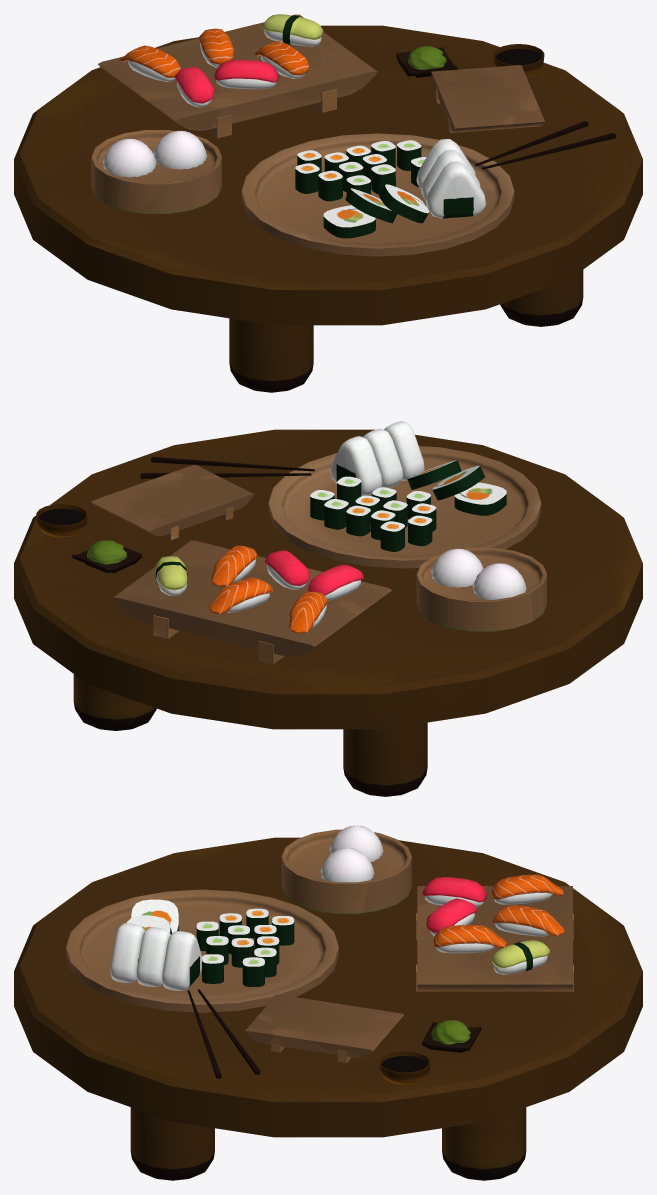
Rendered from foodTable.glb.
The picture shows the model from 3 angles, top to bottom: view 1: azimuth 30°, elevation 25°; view 2: azimuth 150°, elevation 25°; view 3: azimuth 270°, elevation 25°; orthographic projection.
Visible parts, largest first — view 1: Cylinder006; view 2: Cylinder006; view 3: Cylinder006.
Part boxes in pixels (box(x1,y1,x2,y2)): Cylinder006: box(14, 14, 642, 392); Cylinder006: box(14, 421, 642, 796); Cylinder006: box(14, 825, 642, 1180).
Bounding box in the file's own units: 1.49 × 0.5072 × 1.51.
1 material, 1 textured.
